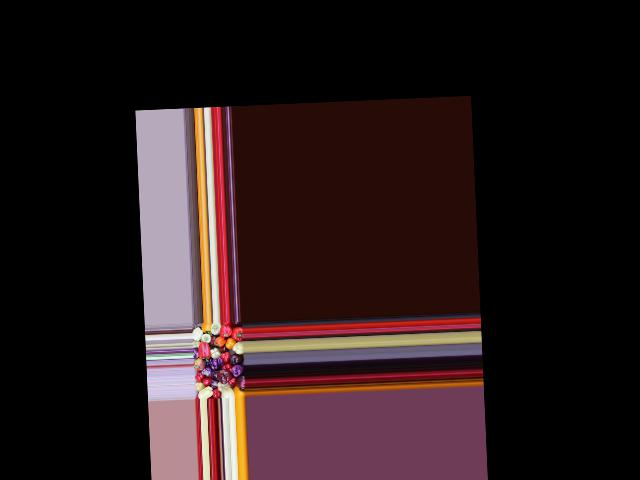bell_pepper: (211, 322, 221, 336)
